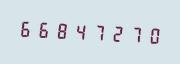eight: (53, 18, 70, 42)
four: (71, 19, 88, 43)
seven: (89, 19, 106, 44), (125, 21, 142, 46)
six: (17, 16, 34, 41), (35, 17, 52, 42)
two: (107, 20, 124, 45)
zero: (143, 22, 160, 47)
